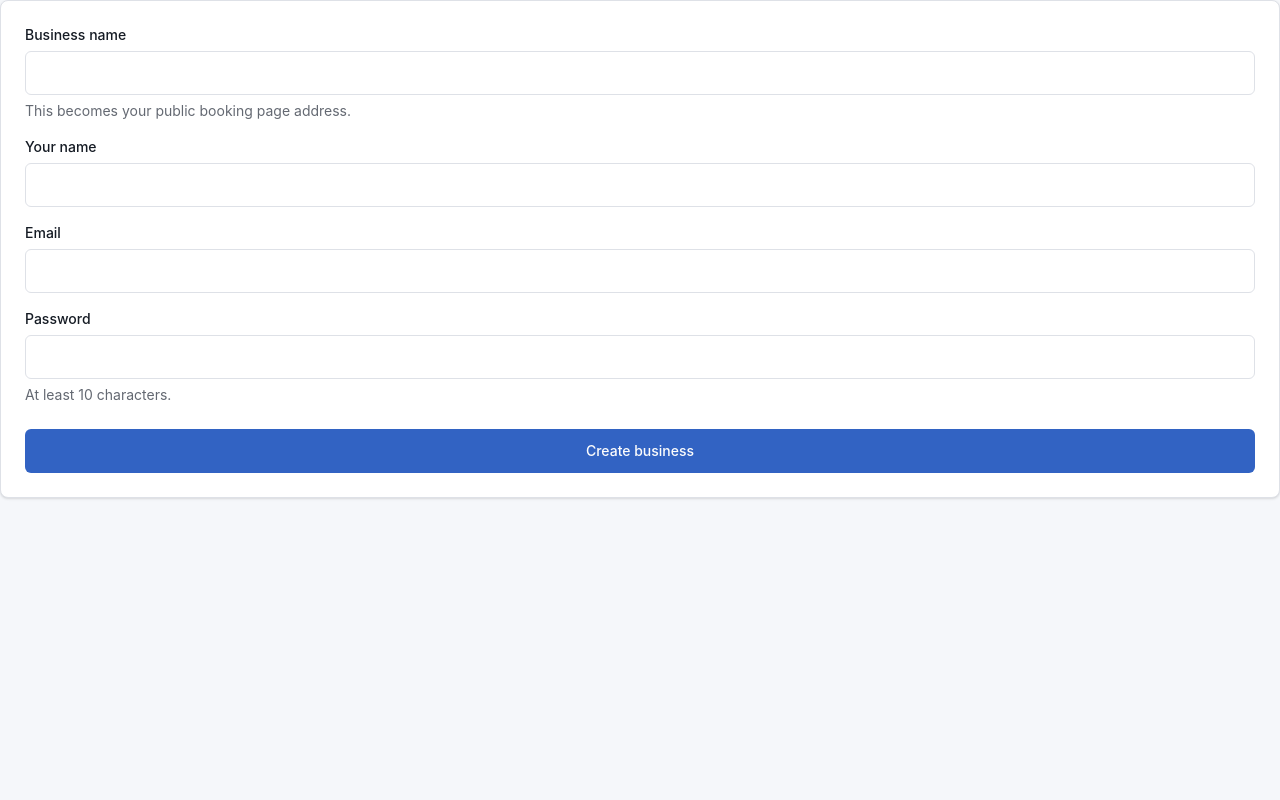
Test: RegisterForm, refused › shows the message the server sent when the refusal names no field
In the field labelled "Business name": (640, 73) [25,51,1255,95], type "Salon Aria"
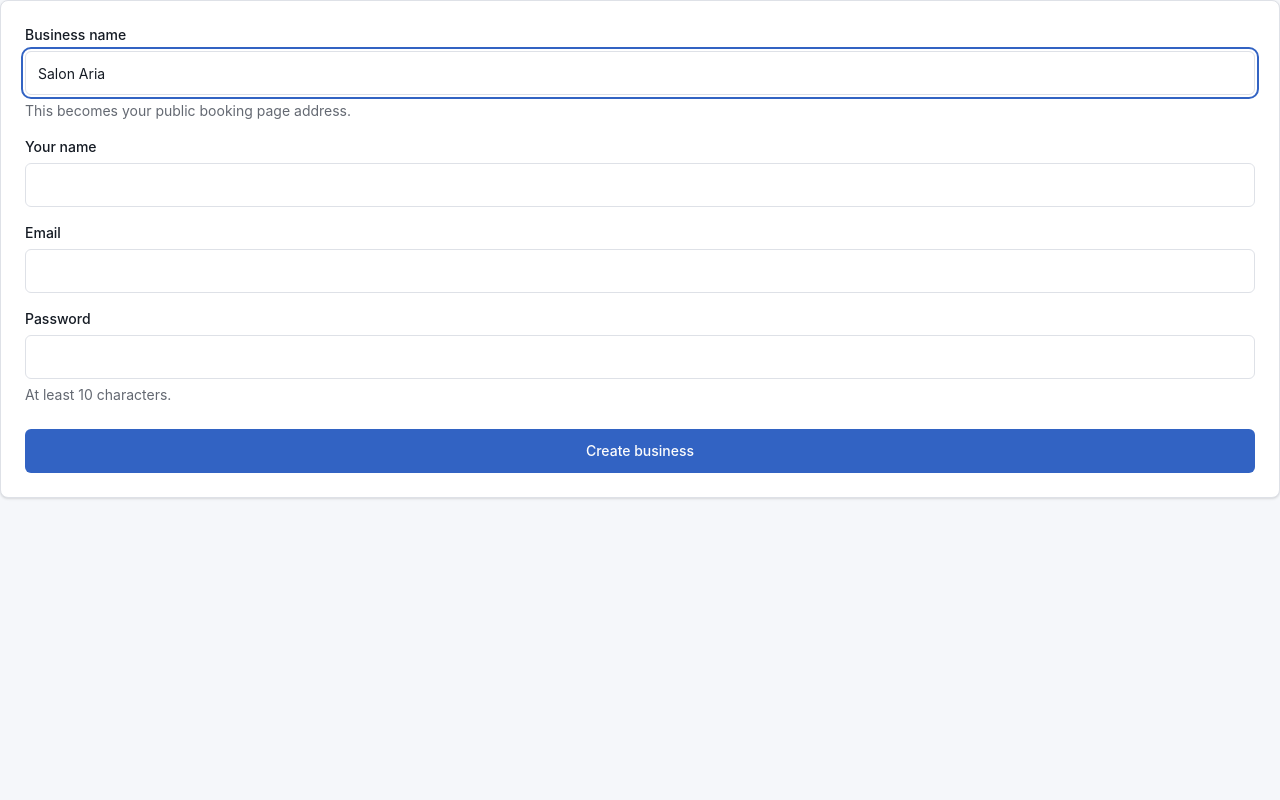
In the field labelled "Your name": (640, 185) [25,163,1255,207], type "Nino Beridze"
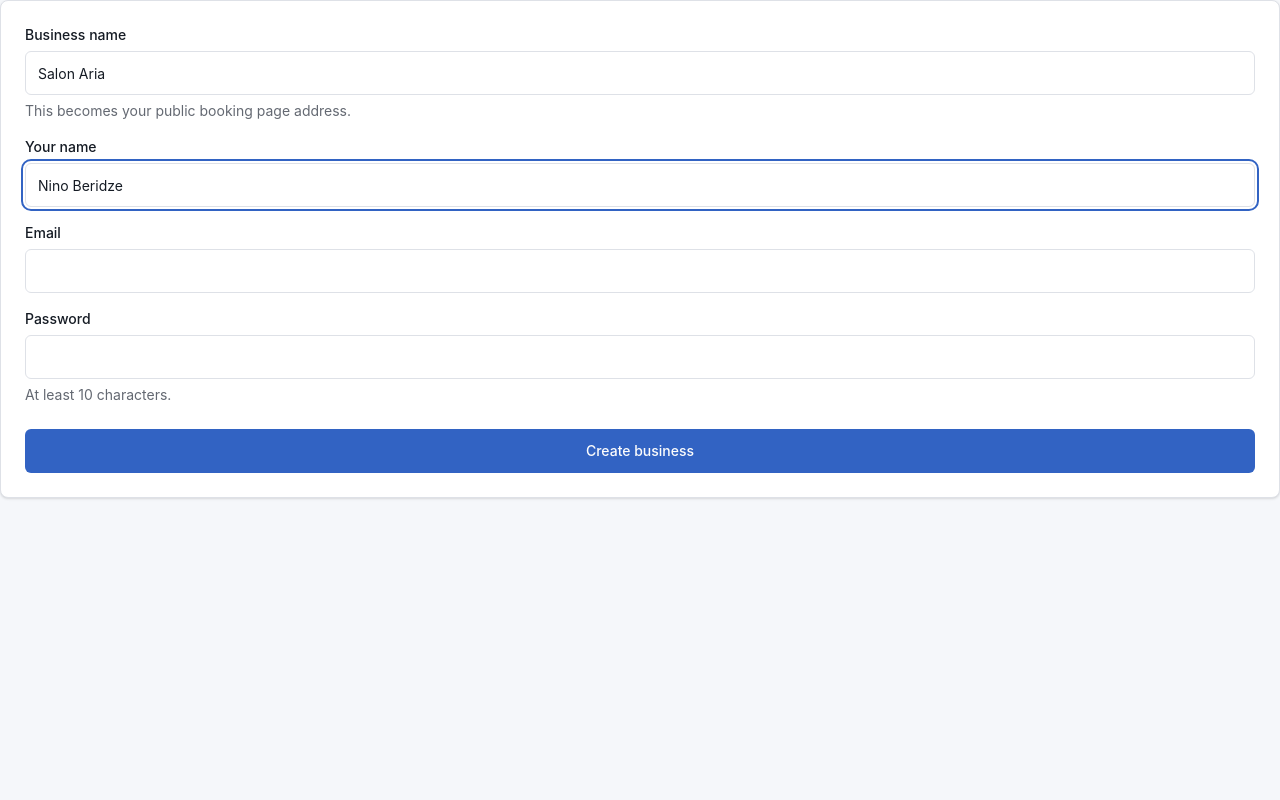
In the field labelled "Email": (640, 271) [25,249,1255,293], type "owner@example.com"
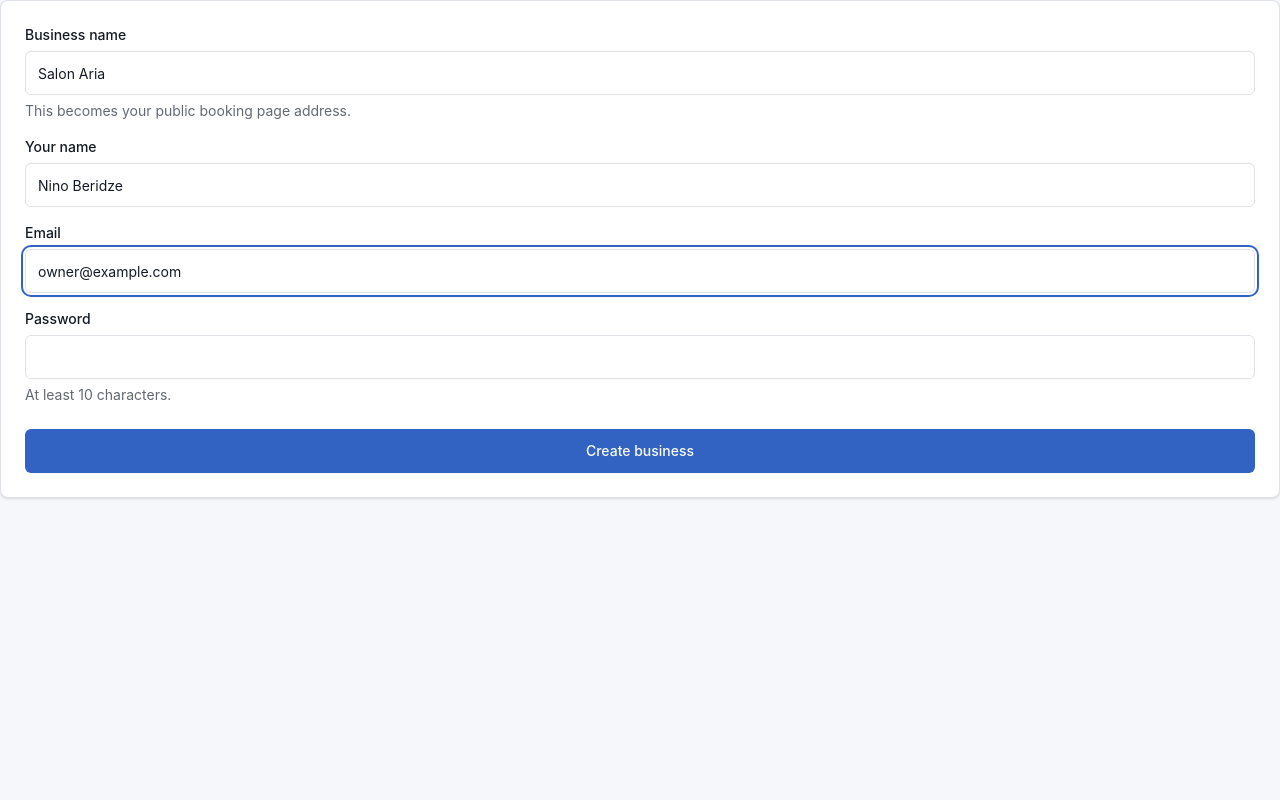
In the password field labelled "Password": (640, 357) [25,335,1255,379], type "long-enough-password"
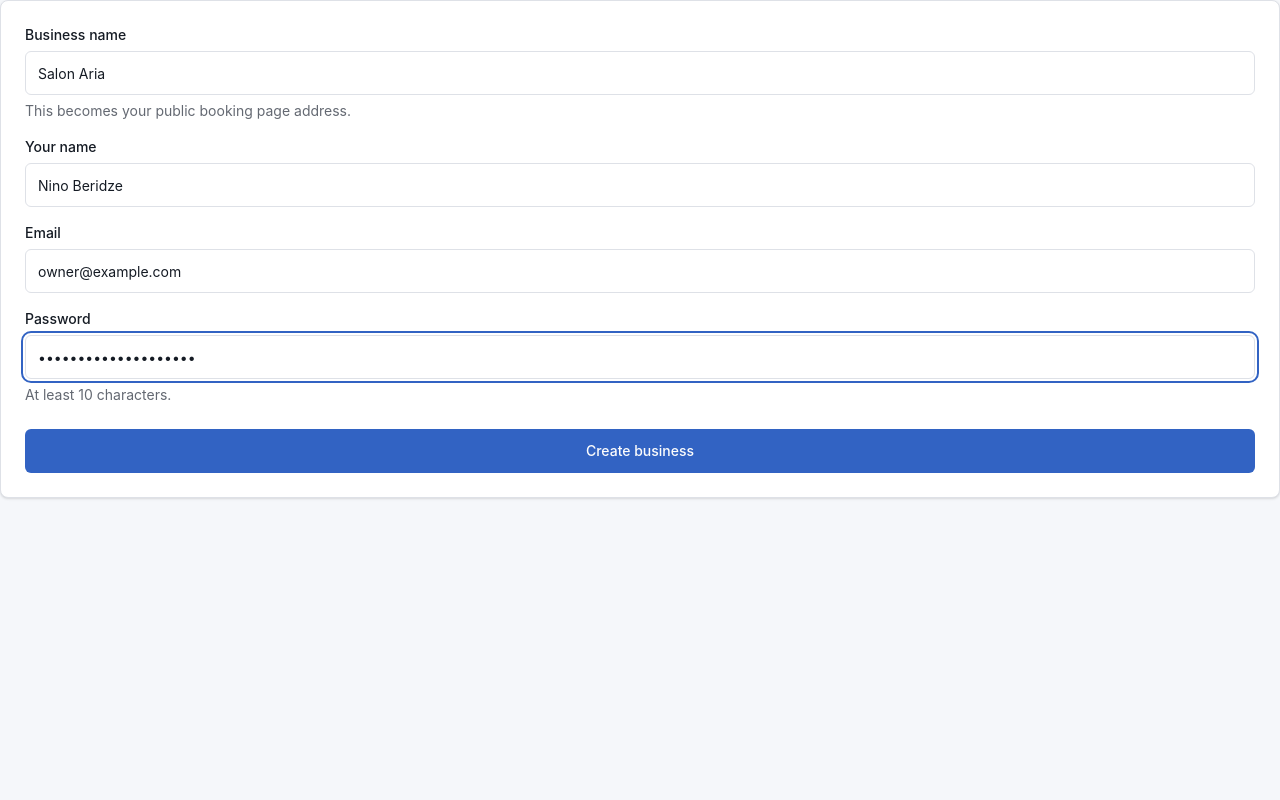
Click the button "Create business": (640, 451) [25,429,1255,473]
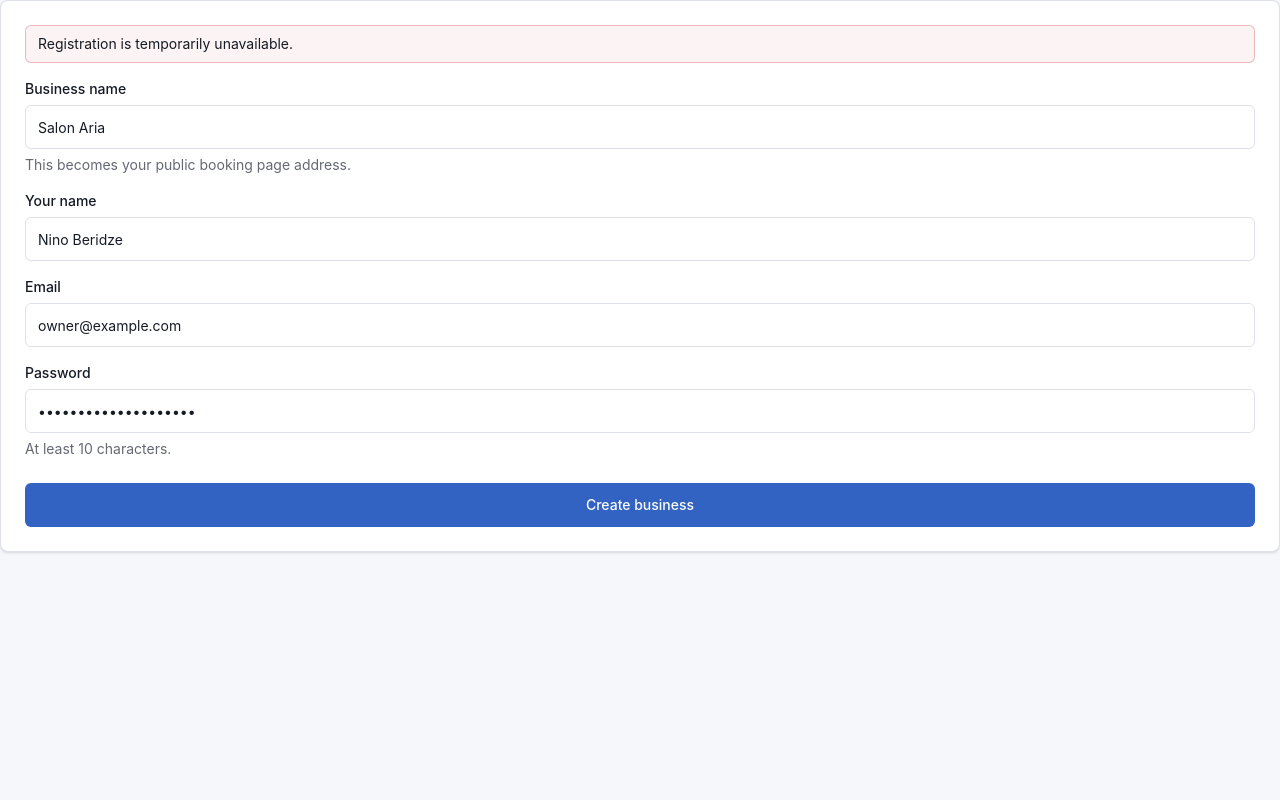
Now the message reads "Registration is temporarily unavailable.", box [38,35,293,52]
